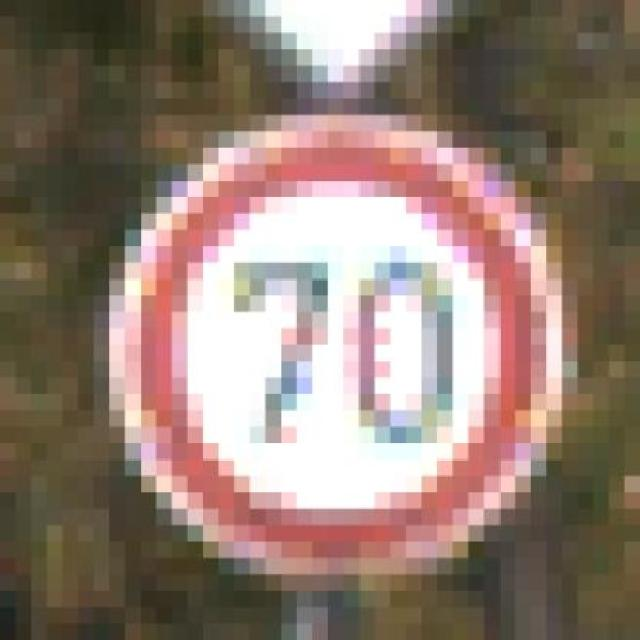forb_speed_over_70: (128, 128, 547, 561)
